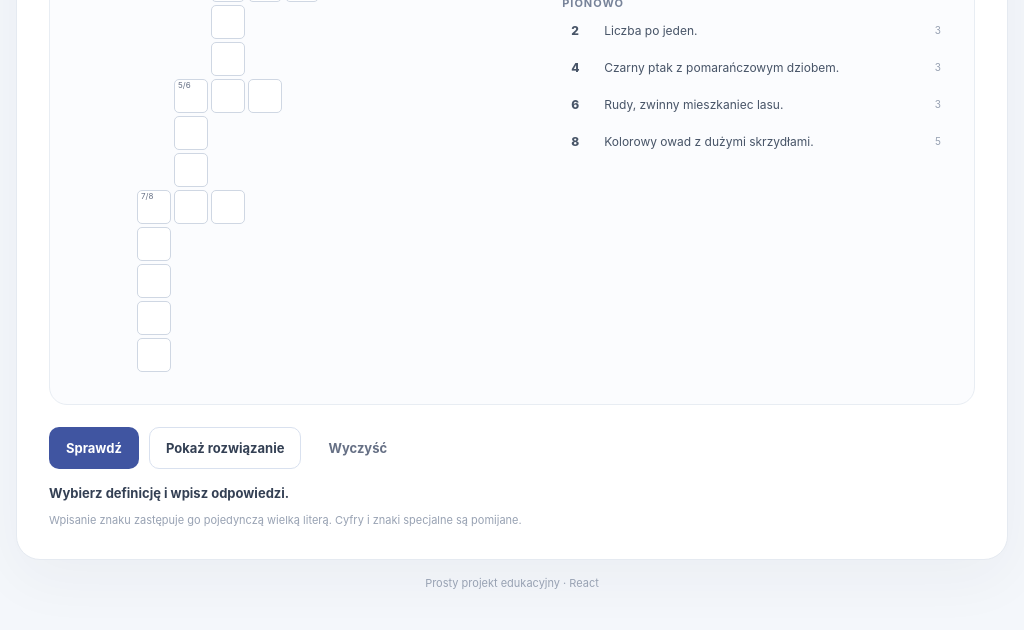
Test: plansza i odpowiedzi › wypełnia poprawne rozwiązanie
The width and height of the screenshot is (1024, 630).
(page scrolled)
Click the button "Pokaż rozwiązanie": (225, 448) [149, 427, 301, 469]
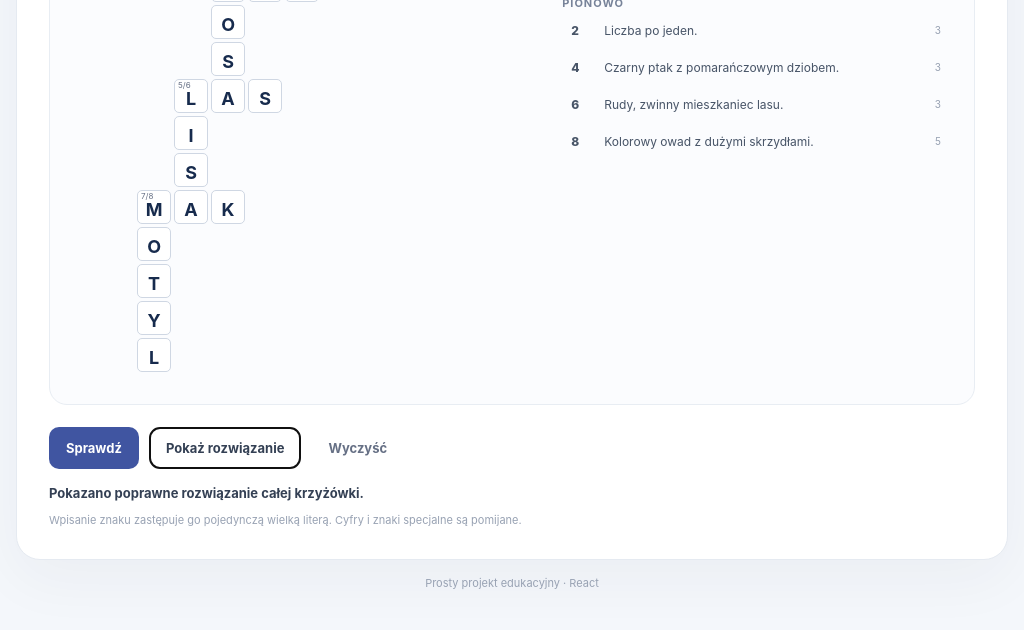
Expected: the field named "Wiersz 9, kolumna 2, litera L" holds "L", [175, 80, 207, 112]
